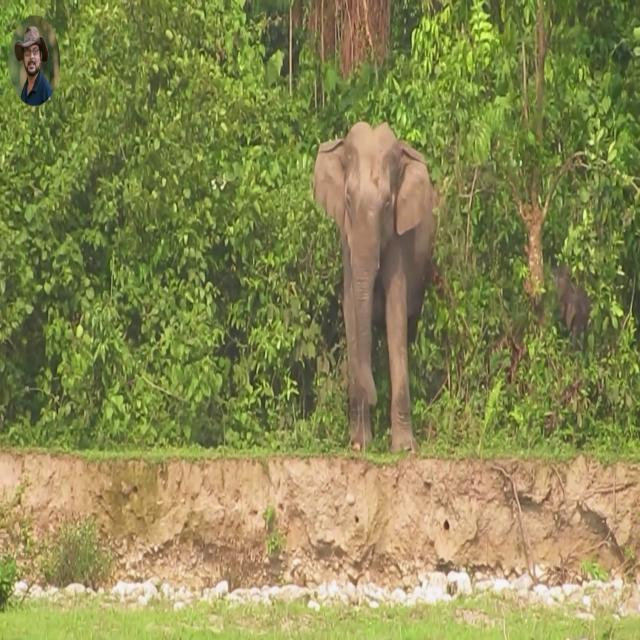Elephant: (312, 119, 440, 453)
